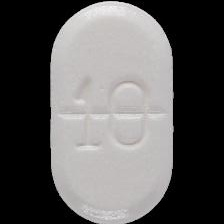49349-814: (0, 0, 224, 224)
